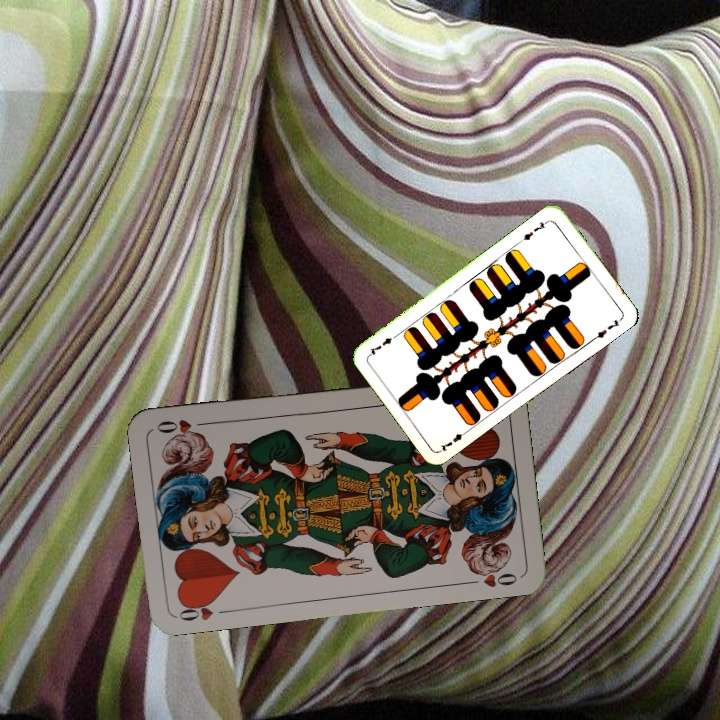E7: (516, 216, 552, 245), (436, 425, 472, 454)
HO: (174, 595, 233, 624)
